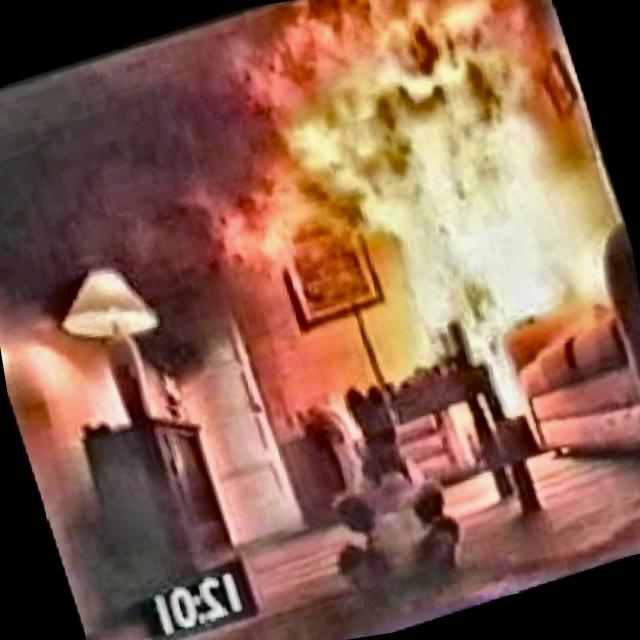fire: (250, 0, 640, 425)
smoke: (0, 15, 355, 471)
